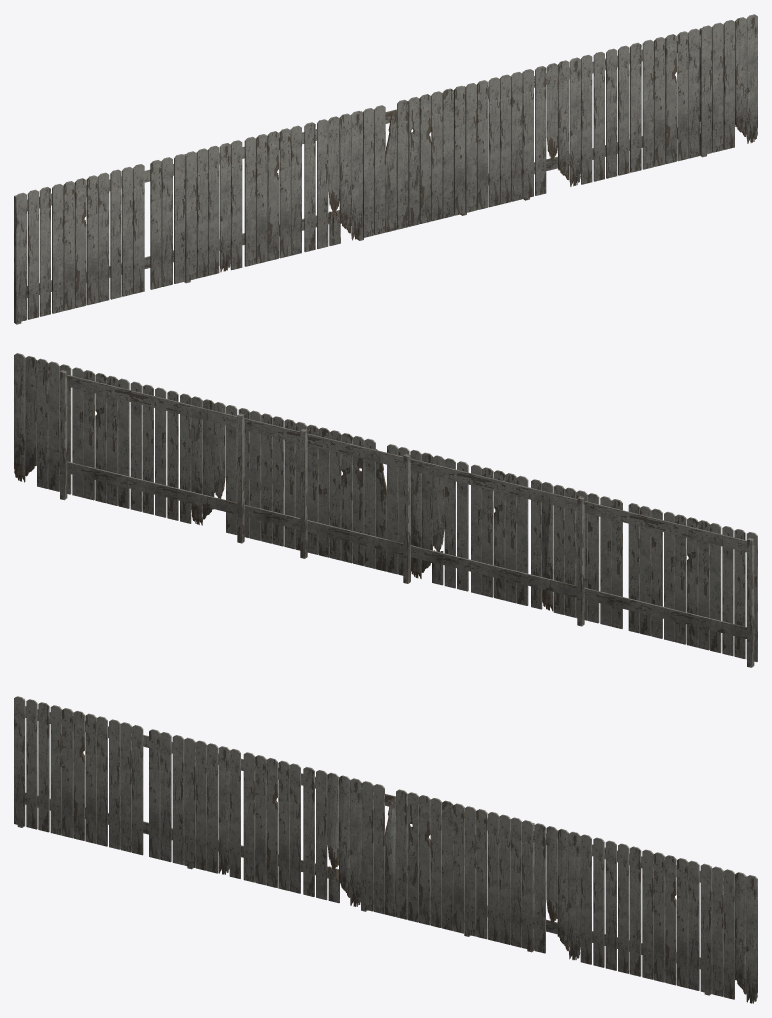
The model's file is left.glb.
3 views of the same model, one above another, from view 1: azimuth 30°, elevation 25°; view 2: azimuth 150°, elevation 25°; view 3: azimuth 330°, elevation 25° (orthographic).
Parts seen in each view (by area): view 1: GroundBeam1_game; view 2: GroundBeam1_game; view 3: GroundBeam1_game.
Boxes of the visible parts, x1,y1,x2,y2 form: GroundBeam1_game: (14, 14, 757, 324); GroundBeam1_game: (14, 353, 757, 667); GroundBeam1_game: (14, 696, 757, 1003).
Bounding box in the file's own units: 12.98 × 2.19 × 0.1315.
Materials: 1 (1 with a texture image).
